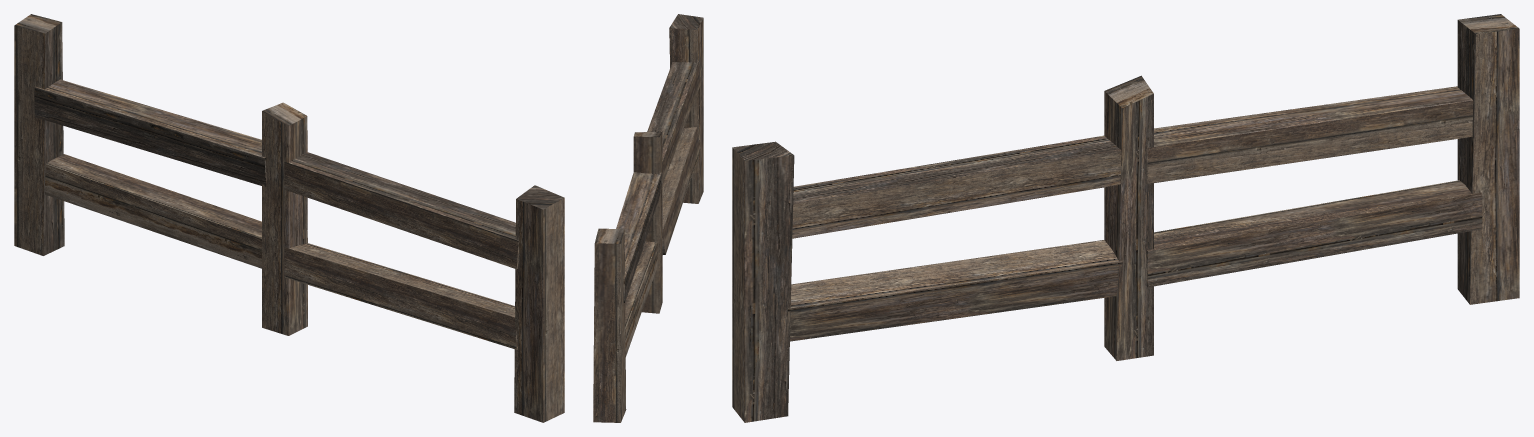
The model's file is fence-wood.fbx.
3 views of the same model, side by side, from view 1: azimuth 30°, elevation 25°; view 2: azimuth 150°, elevation 25°; view 3: azimuth 270°, elevation 25° (orthographic). The views are drawn at different scales.
Parts seen in each view (by area): view 1: 2; view 2: 2; view 3: 2.
Boxes of the visible parts, x1,y1,x2,y2 form: 2: [14, 14, 564, 422]; 2: [593, 14, 703, 422]; 2: [732, 14, 1519, 422].
Size of the model in its own units: 170 by 151 by 397.
Materials: 1 (1 with a texture image).
